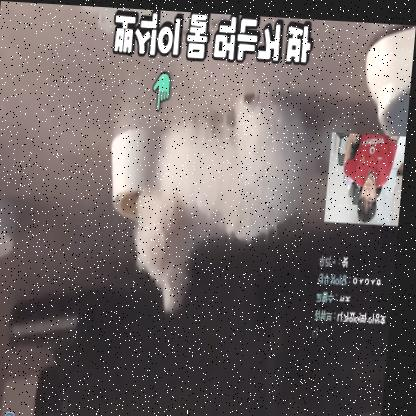streamer: (341, 127, 401, 219)
